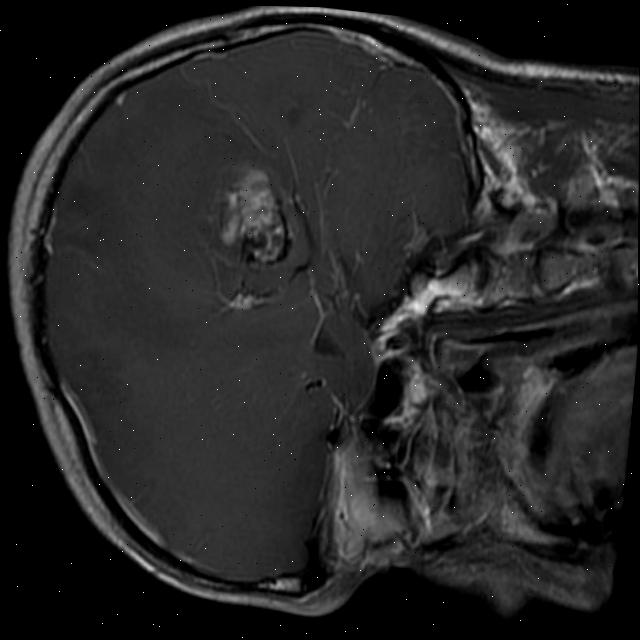Glioma: (214, 162, 295, 266), (221, 286, 265, 312)
